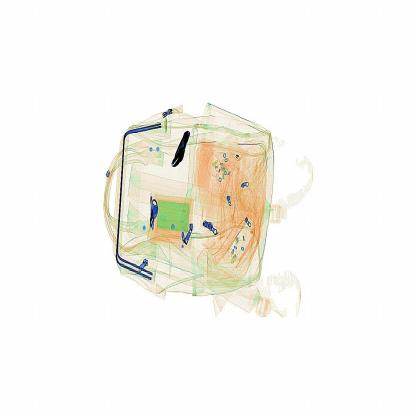knife: (167, 130, 203, 183)
